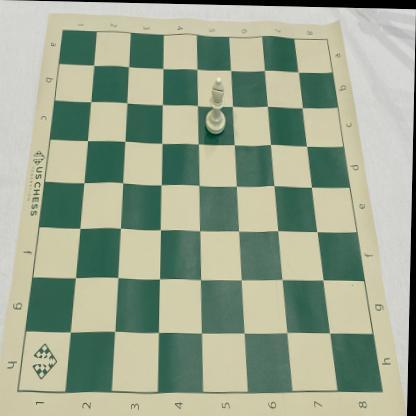white-bishop: (205, 75, 227, 134)
